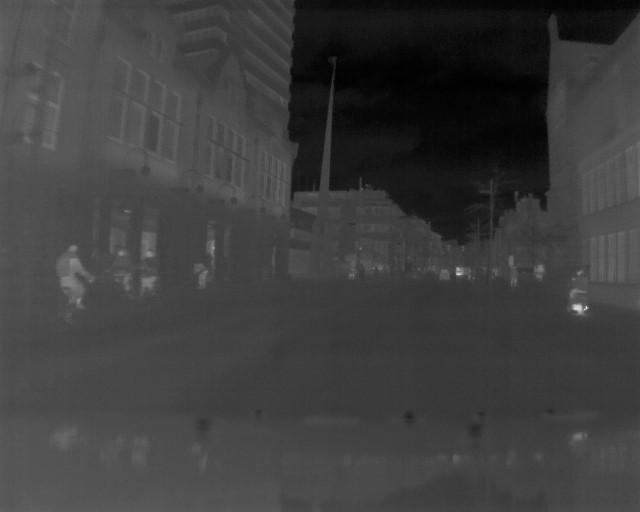person: (55, 242, 96, 331), (110, 246, 135, 305), (567, 266, 588, 317), (140, 248, 158, 305)
